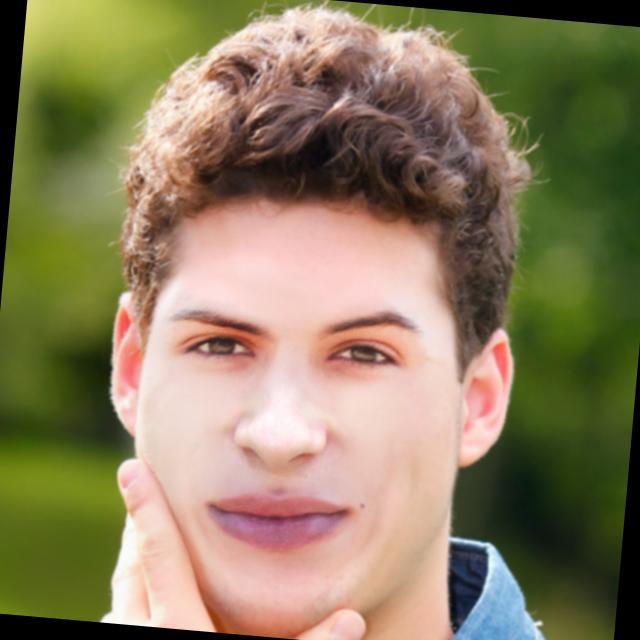face: (120, 180, 477, 630)
